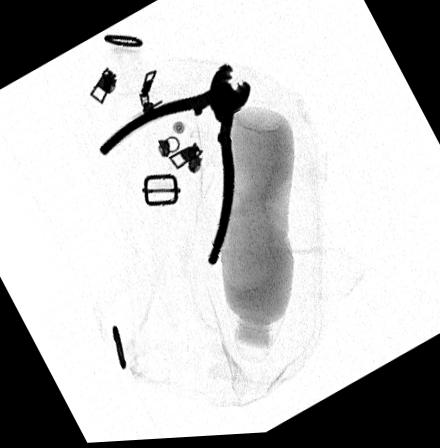Pliers: (97, 68, 251, 268)
